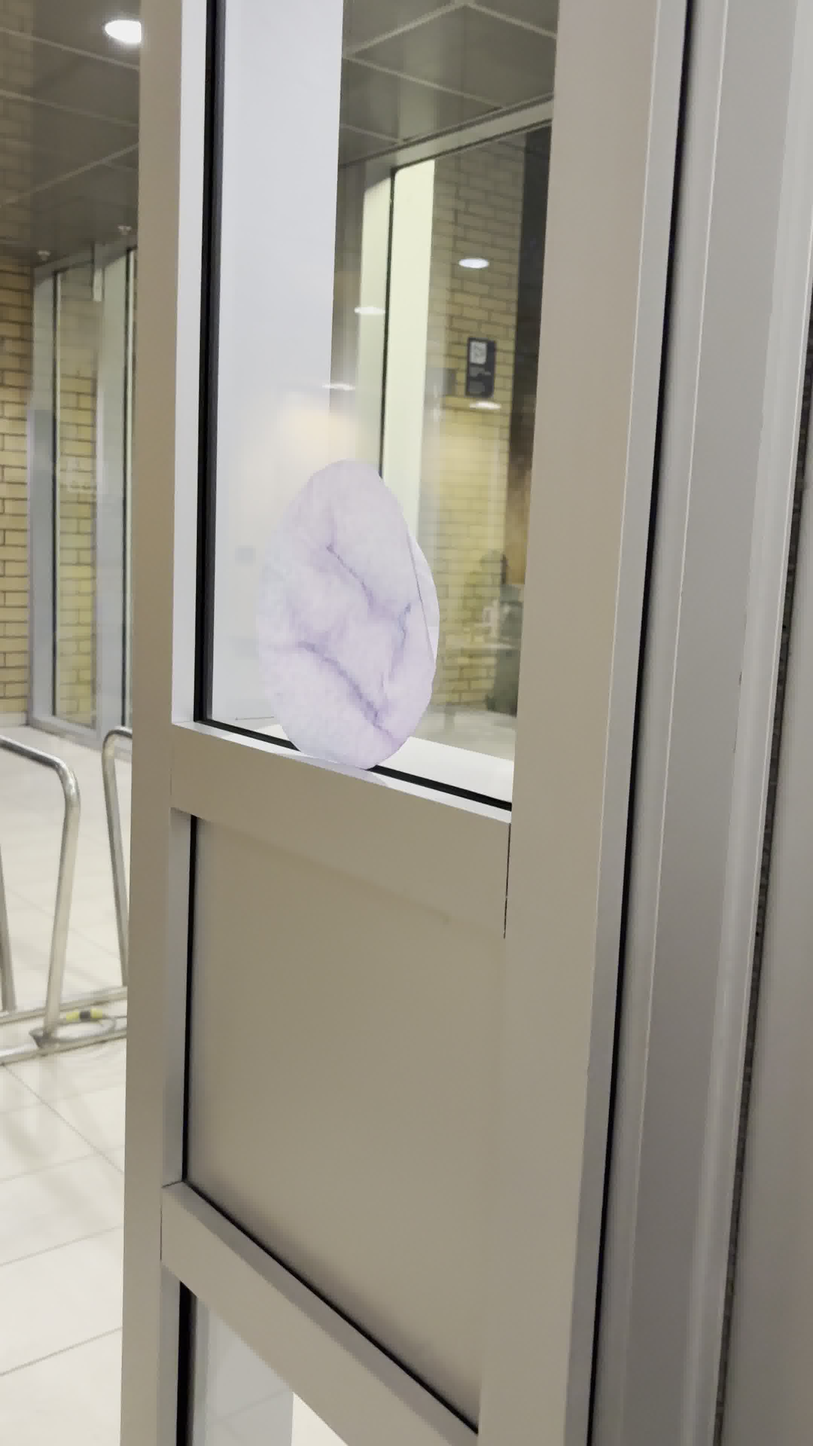Target: (255, 457, 444, 778)
